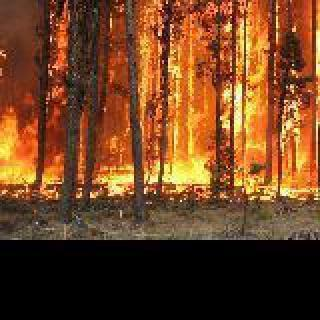fire: (6, 0, 320, 194)
